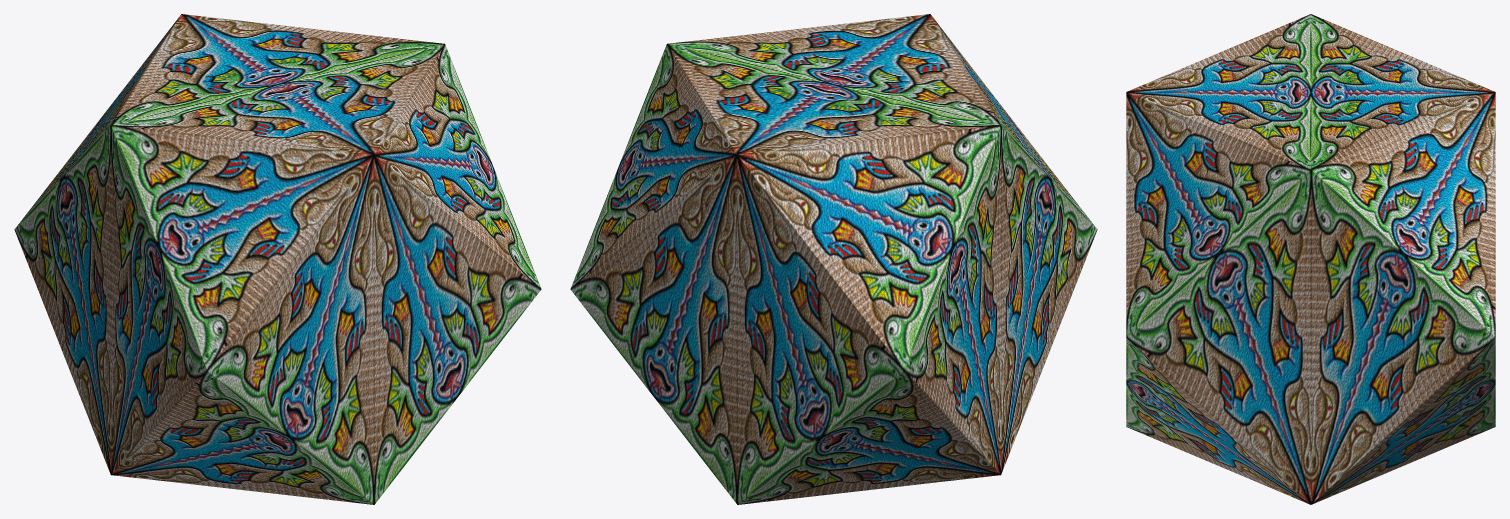
Rendered from Cuboctahedron2.obj.
3 views of the same model, side by side, from view 1: azimuth 30°, elevation 25°; view 2: azimuth 150°, elevation 25°; view 3: azimuth 270°, elevation 25° (orthographic). The views are drawn at different scales.
Size of the model in its own units: 1.41 by 1.41 by 1.41.
Materials: 1 (1 with a texture image).
